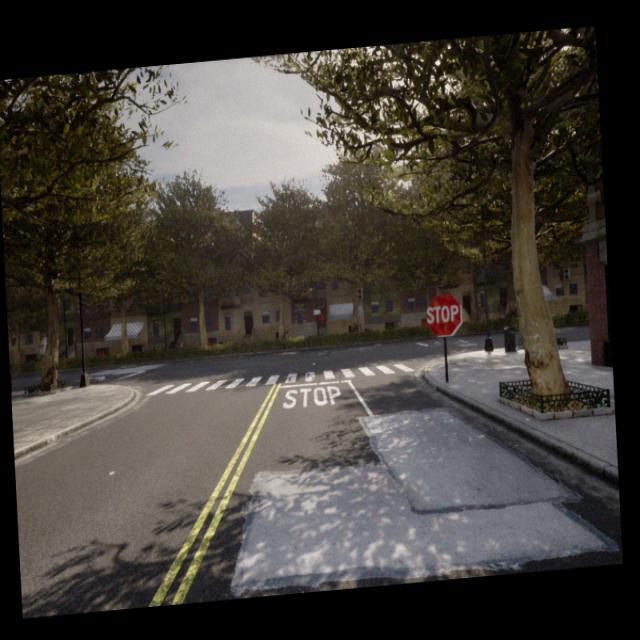stop sign: (423, 290, 463, 338), (426, 302, 460, 325)
